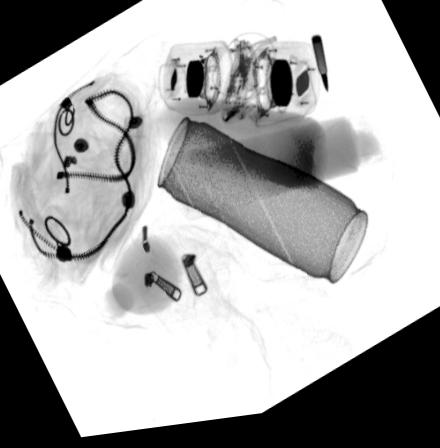Bullet: (310, 41, 329, 102)
